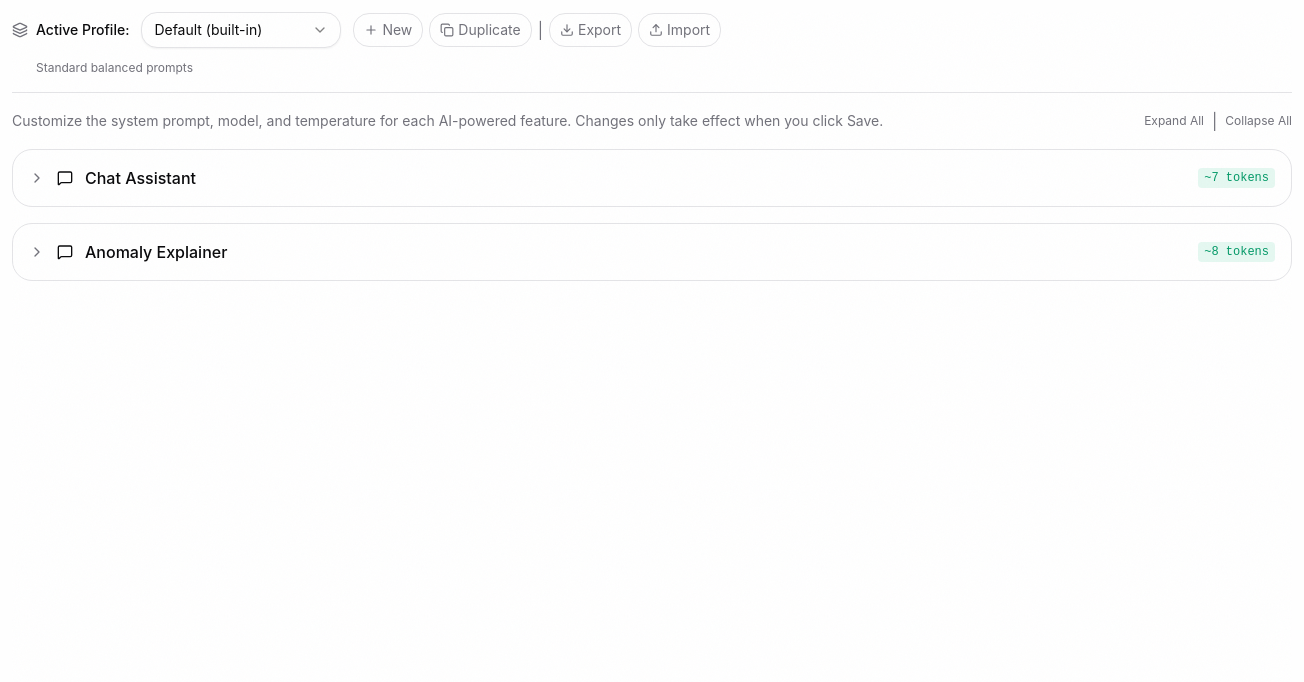
AiPromptsTab › shows test results panel after clicking Test Prompt
What coordinates should you click on to do the following:
click the text "Chat Assistant"
I would click on:
 (140, 178)
Its box is [85,166,196,190].
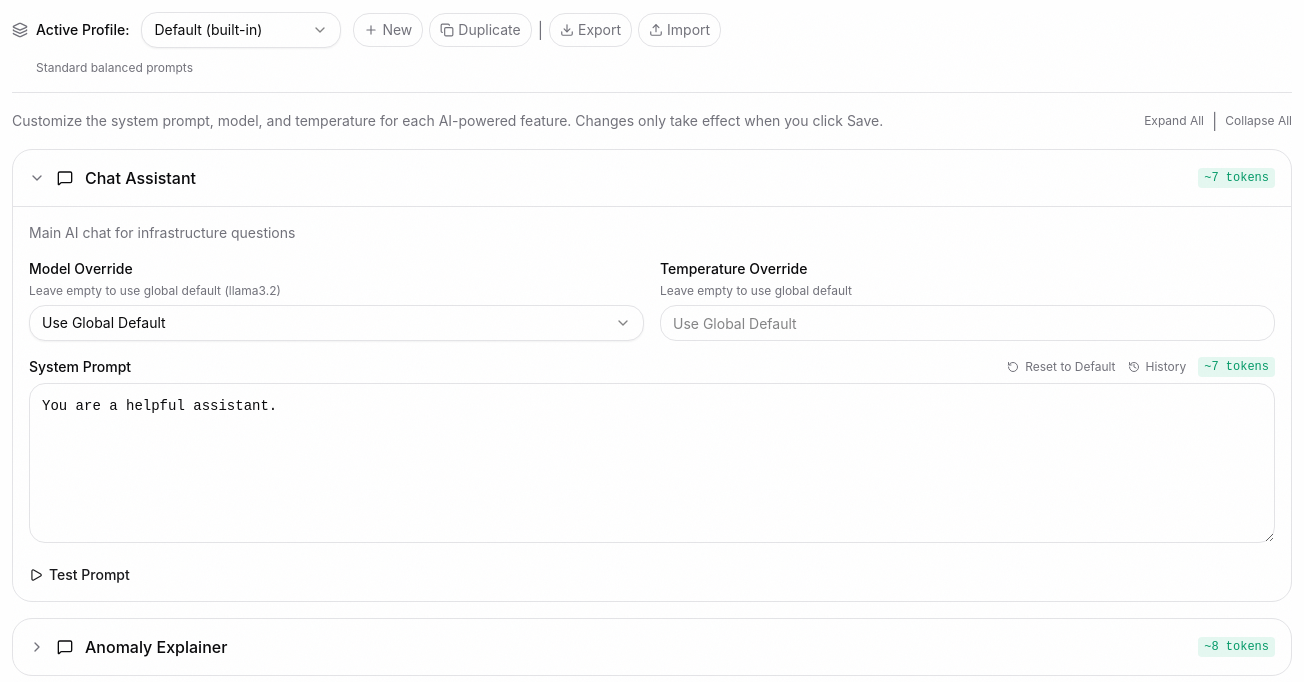
expect the button "Test Prompt" is shown: met
What coordinates should you click on to do the following:
click the button "Test Prompt"
I would click on:
 (79, 575)
Its box is [29,565,130,585].
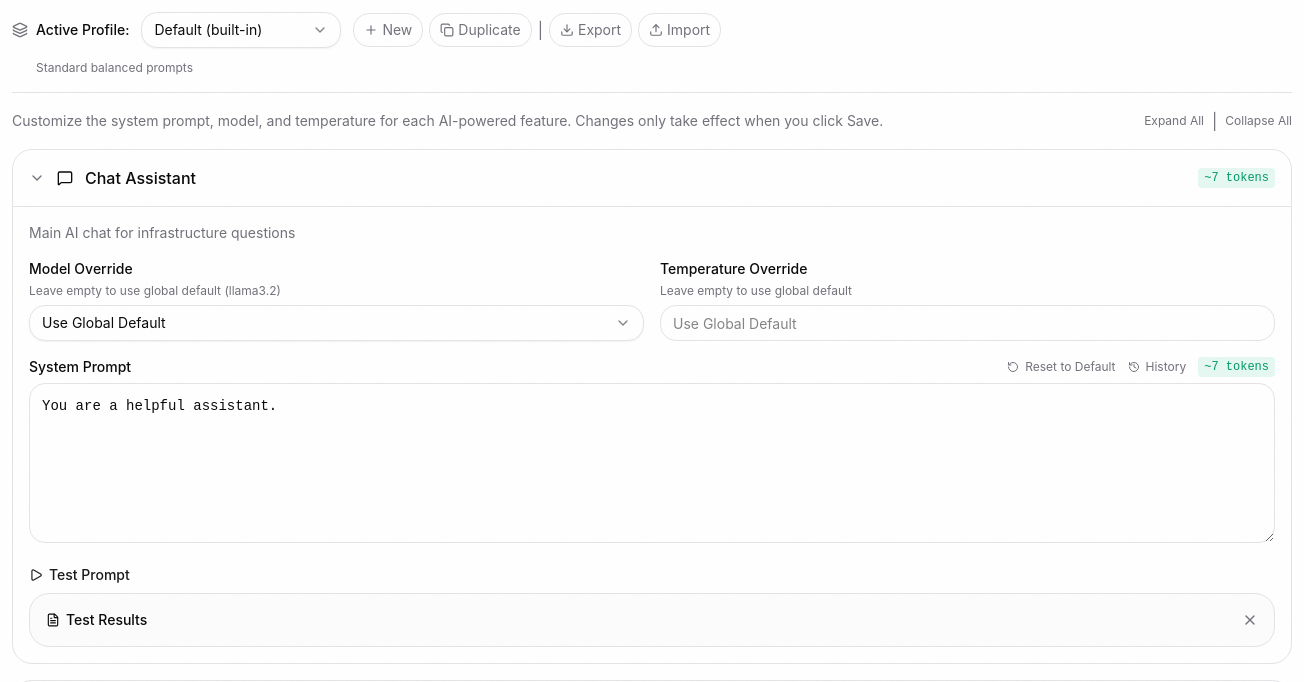
expect the text "Test Results" is shown: met, box [46,610,147,630]
